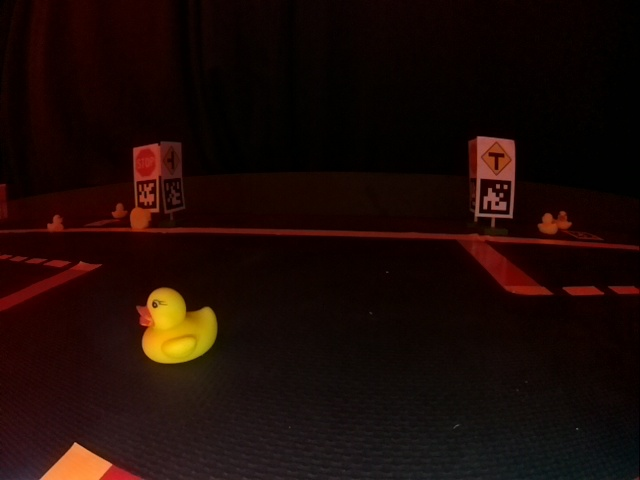Duckie: (138, 287, 218, 363), (130, 209, 150, 229), (538, 213, 557, 234), (48, 215, 64, 231), (555, 214, 572, 229)
Intersection sign: (483, 141, 511, 176), (163, 146, 179, 175)
QR code: (479, 179, 509, 214), (163, 179, 183, 210), (136, 179, 156, 208), (469, 178, 478, 211), (567, 233, 603, 241), (86, 219, 118, 228)
Stop sign: (135, 149, 154, 176)
